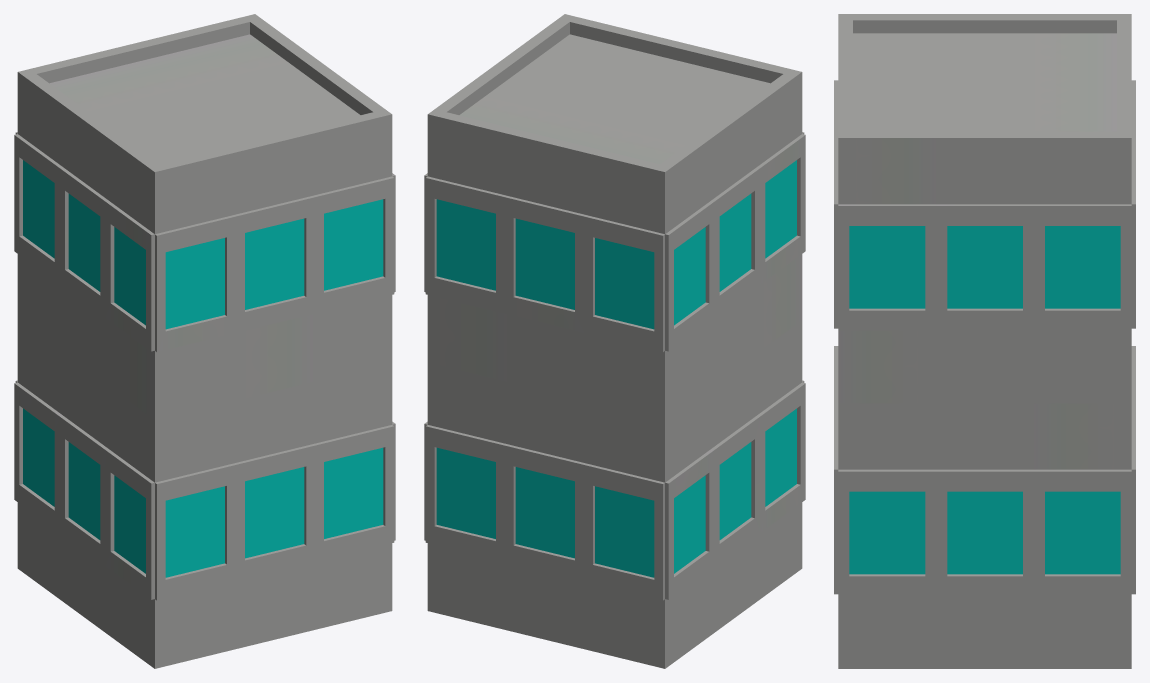
The model's file is TestBldg4.obj.
3 renders of one model, left to right at view 1: azimuth 30°, elevation 25°; view 2: azimuth 150°, elevation 25°; view 3: azimuth 270°, elevation 25°, orthographic. The views are drawn at different scales.
Parts seen in each view (by area): view 1: 立方体; view 2: 立方体; view 3: 立方体.
Part boxes in pixels (box(x1,y1,x2,y2)): 立方体: box(14, 14, 395, 668); 立方体: box(424, 14, 805, 668); 立方体: box(834, 14, 1135, 668).
Size of the model in its own units: 10.3 by 20 by 10.3.
Materials: 2 (2 with a texture image).
